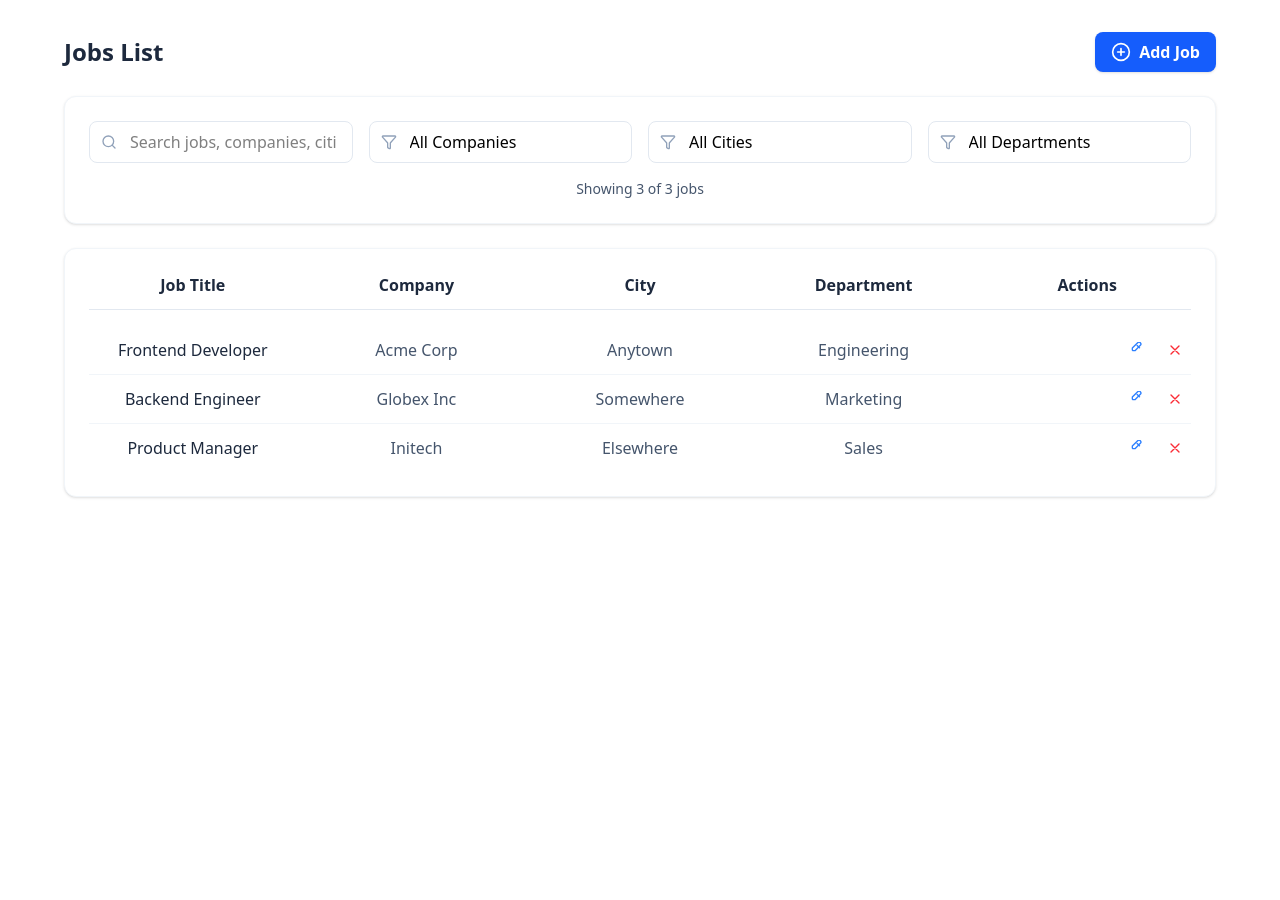
Test case: JobSelector › should open add job modal when add button is clicked
Click the button "Add Job".
click(1156, 52)  # box [1095,32,1216,72]
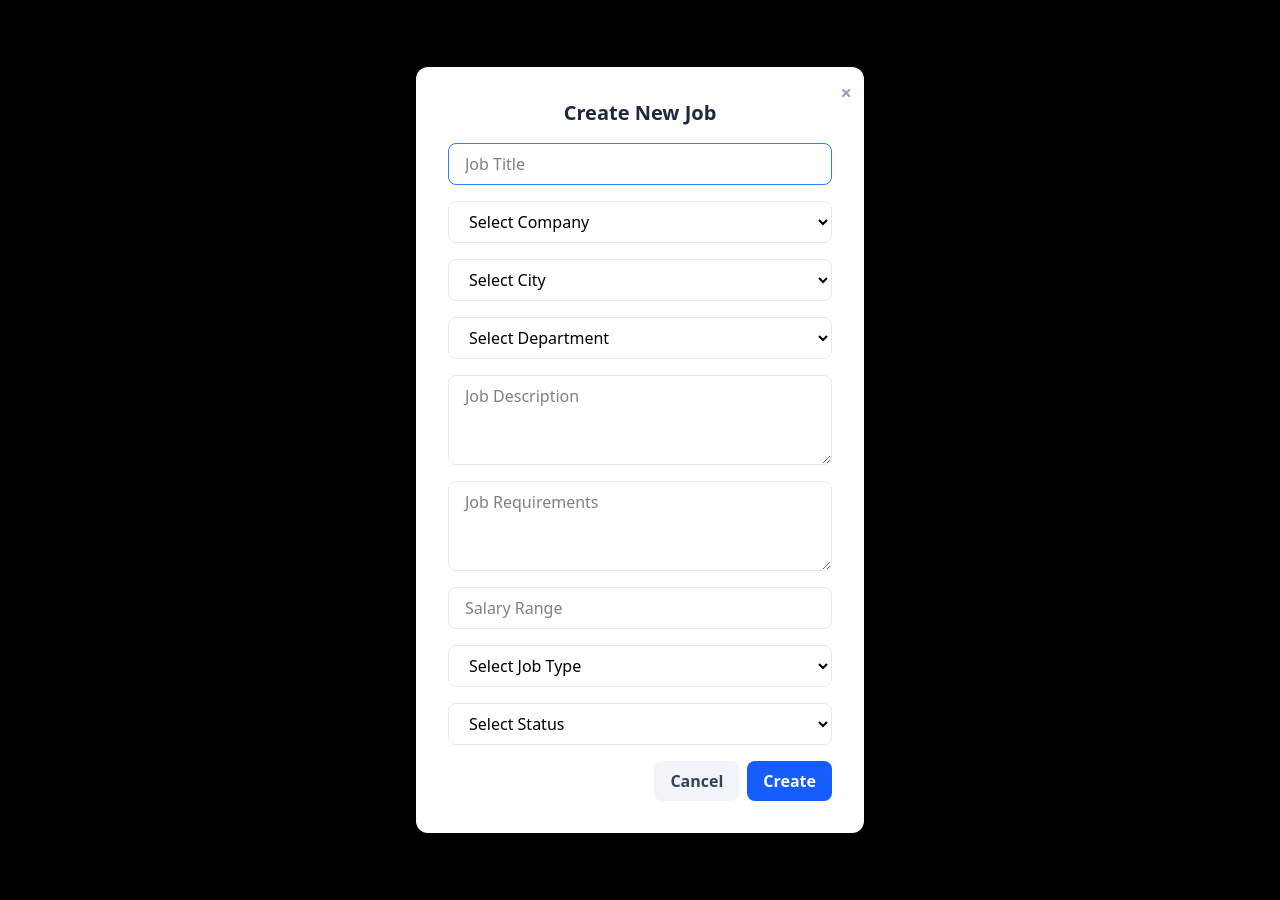
expect the heading "Create New Job" is shown: met, box [564,99,716,126]
expect the field with placeholder "Job Title" is shown: met, box [448,143,832,185]
